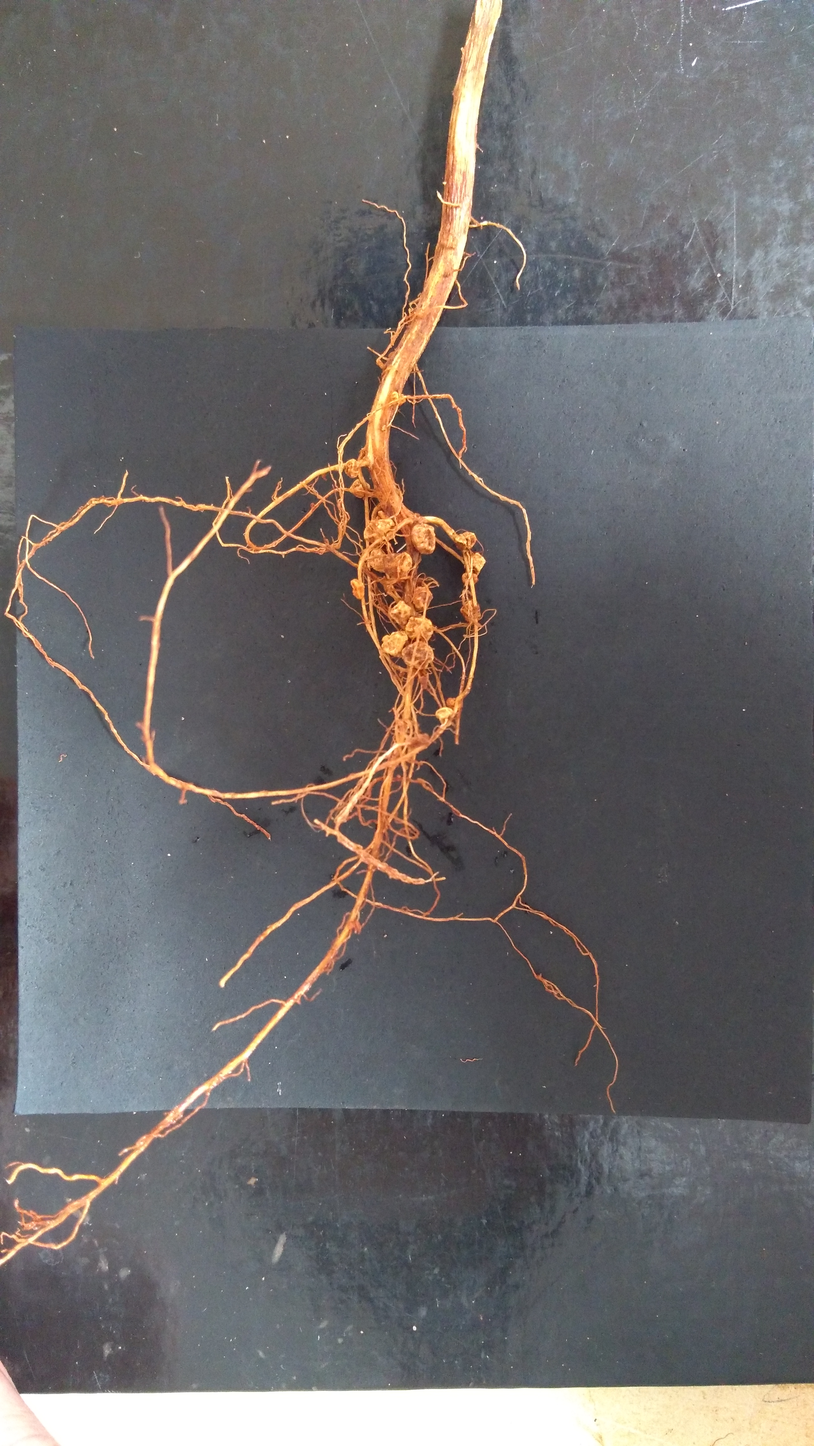nodule: (363, 510, 396, 546), (401, 641, 434, 670), (383, 552, 413, 582), (380, 630, 409, 659), (410, 523, 435, 555), (404, 616, 433, 643), (390, 600, 415, 629), (412, 585, 433, 611), (369, 548, 388, 573), (454, 531, 477, 551), (460, 599, 480, 621), (350, 479, 370, 499), (469, 552, 486, 575), (435, 707, 454, 726), (408, 732, 429, 749), (344, 459, 359, 479), (350, 579, 365, 599), (461, 573, 478, 586), (418, 673, 429, 690), (445, 697, 457, 708), (398, 393, 406, 406), (390, 391, 399, 401), (381, 424, 386, 432)
